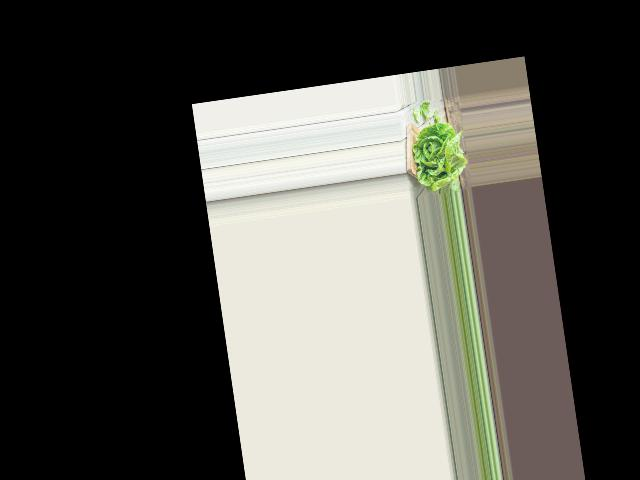lettuce: (406, 122, 469, 194)
